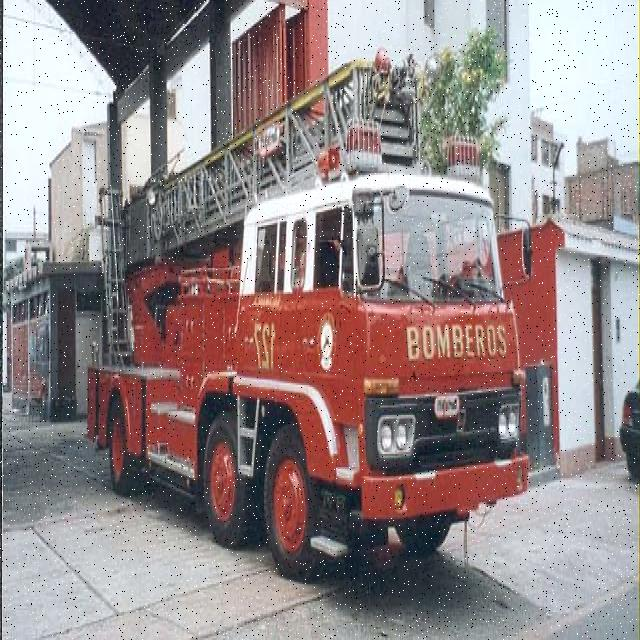truck: (84, 164, 534, 573)
